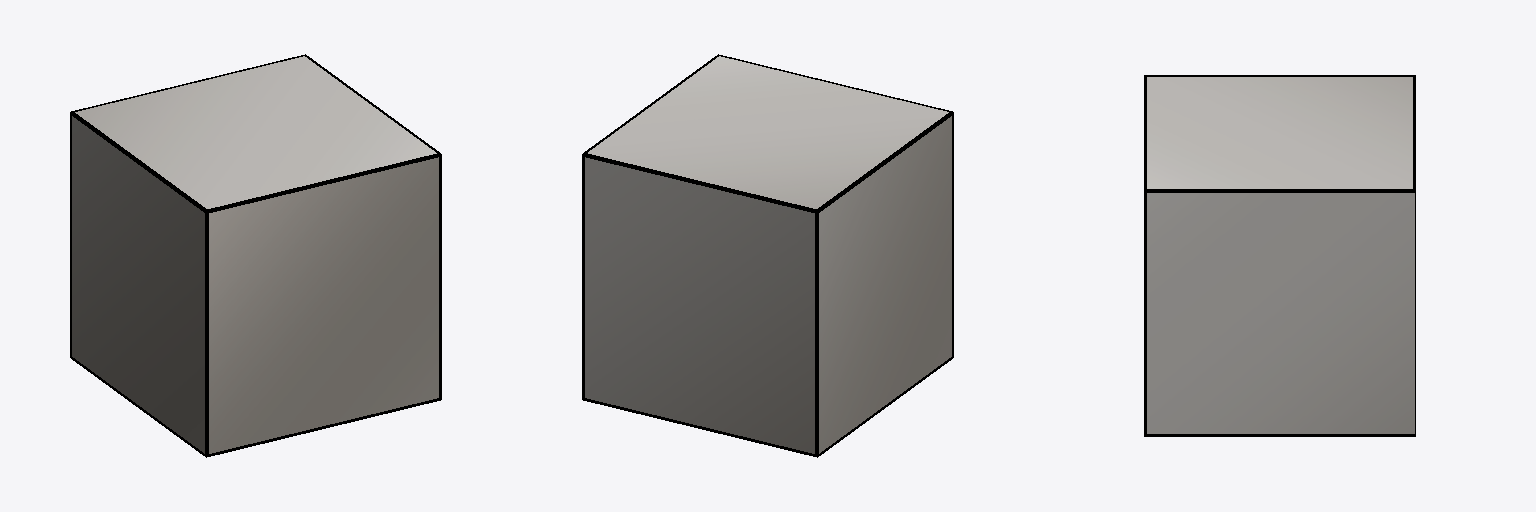
3 renders of one model, left to right at view 1: azimuth 30°, elevation 25°; view 2: azimuth 150°, elevation 25°; view 3: azimuth 270°, elevation 25°, orthographic.
Visible parts, largest first — view 1: 立方体; view 2: 立方体; view 3: 立方体.
Part boxes in pixels (x1,y1,x2,y2): 立方体: (70, 54, 441, 457); 立方体: (582, 54, 953, 457); 立方体: (1144, 75, 1415, 436).
Bounding box in the file's own units: 1 × 1 × 1.
1 materials, 1 textured.